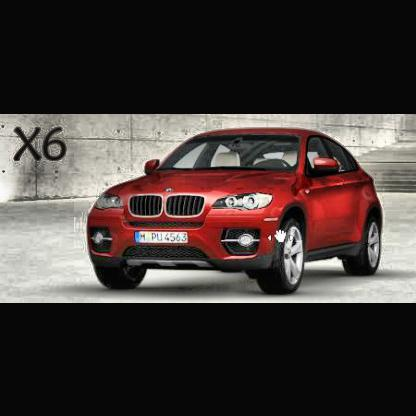BMW X6 SUV 2012: (88, 129, 388, 289)
